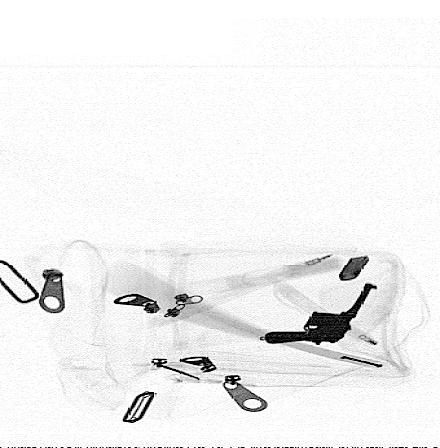Gun: (263, 281, 382, 346)
